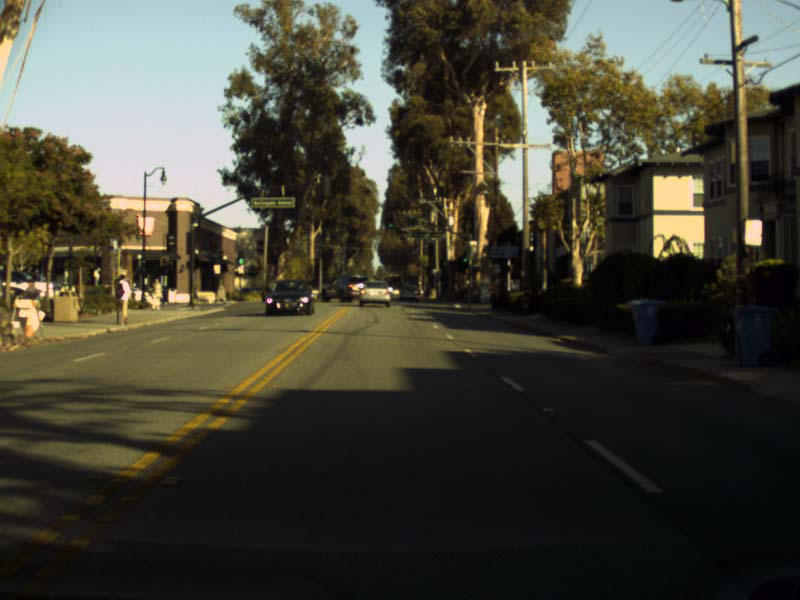Green: (386, 212, 395, 228), (462, 247, 468, 265), (238, 251, 244, 265)
